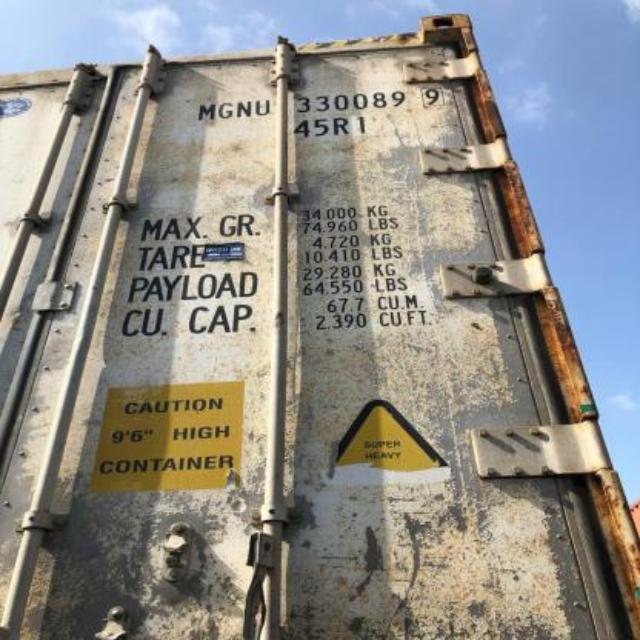0: (329, 90, 349, 110), (352, 88, 368, 110)
3: (295, 92, 311, 114), (316, 92, 332, 114)
8: (372, 90, 386, 110)
9: (420, 85, 444, 108), (389, 86, 407, 112)
G: (218, 97, 232, 123)
M: (199, 99, 217, 125)
N: (233, 95, 251, 119)
U: (254, 98, 270, 118)
